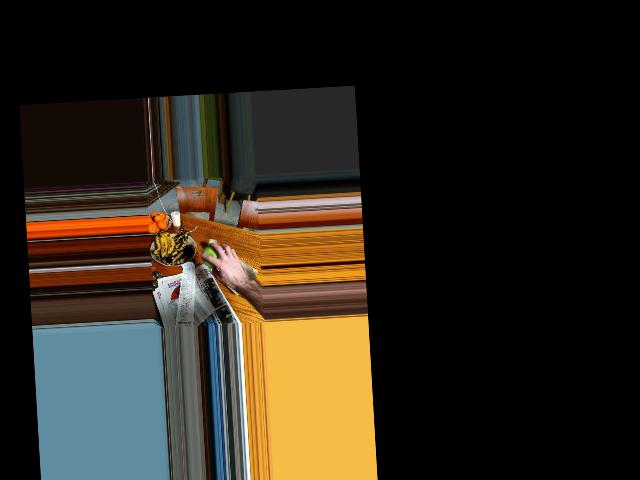apple: (201, 243, 226, 269)
